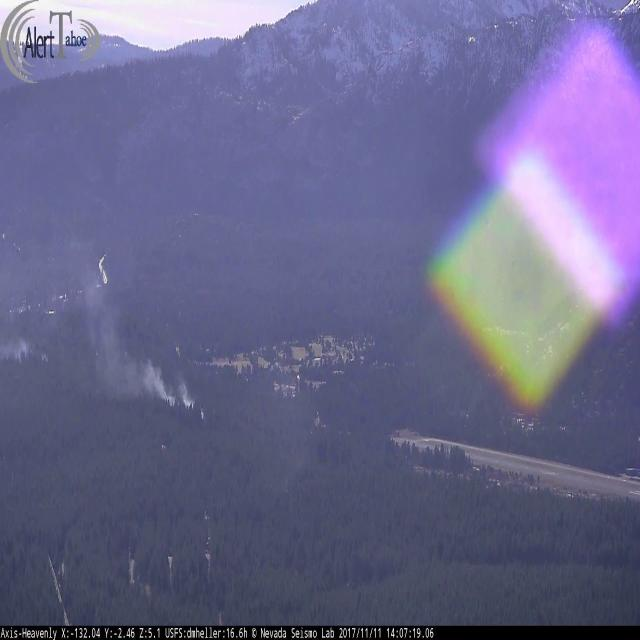smoke: (0, 215, 207, 421)
